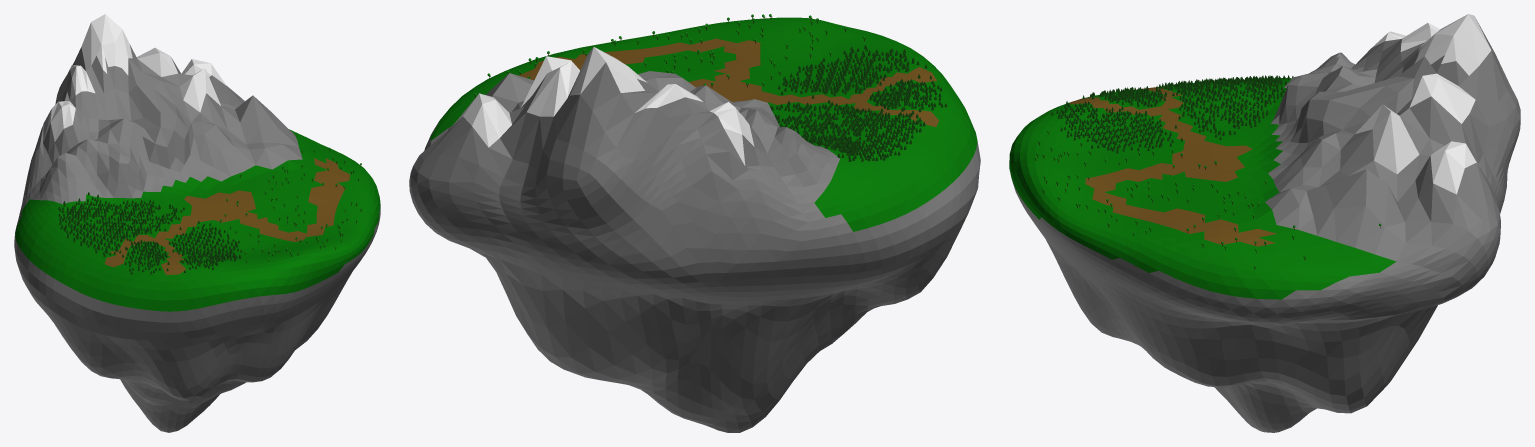
The model's file is Island v2.fbx.
The picture shows the model from 3 angles, left to right: view 1: azimuth 30°, elevation 25°; view 2: azimuth 150°, elevation 25°; view 3: azimuth 270°, elevation 25°; orthographic projection. The views are drawn at different scales.
Parts seen in each view (by area): view 1: Island; view 2: Island; view 3: Island.
Part boxes in pixels (x1,y1,x2,y2): Island: (14, 14, 380, 432); Island: (409, 17, 980, 432); Island: (1009, 14, 1520, 432).
Size of the model in its own units: 554284 by 532835 by 581803.
